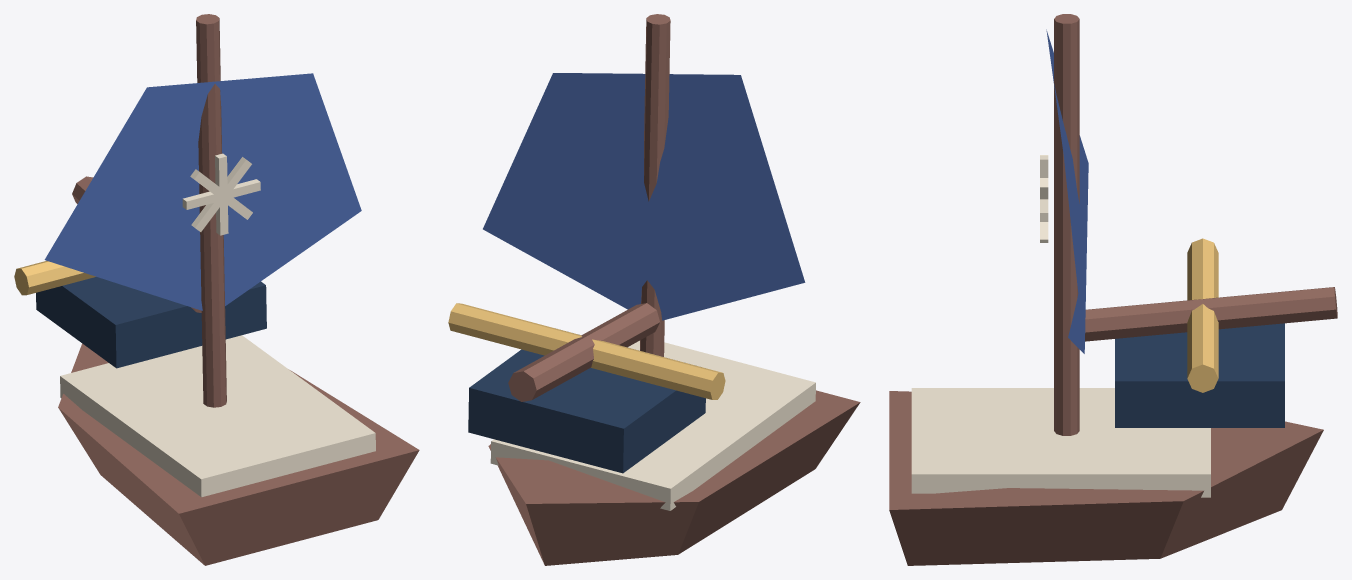
File: bomber-outremer.glb
3 views of the same model, side by side, from view 1: azimuth 30°, elevation 25°; view 2: azimuth 150°, elevation 25°; view 3: azimuth 270°, elevation 25° (orthographic). The views are drawn at different scales.
Parts seen in each view (by area): view 1: Distinctive sail, Pearl deck, Carved hull, Ballista platform, Mast, Ballista arm, Compass emblem.001, Compass emblem, Compass emblem.002, Compass emblem.003; view 2: Distinctive sail, Carved hull, Ballista platform, Pearl deck, Ballista arm, Mast, Ballista rail; view 3: Carved hull, Pearl deck, Ballista platform, Mast, Ballista rail, Ballista arm, Distinctive sail.
Part boxes in pixels (x1=…): Distinctive sail: x1=44, y1=73, x2=361, y2=310; Pearl deck: x1=60, y1=335, x2=375, y2=497; Carved hull: x1=58, y1=343, x2=419, y2=565; Ballista platform: x1=36, y1=277, x2=266, y2=368; Mast: x1=196, y1=14, x2=226, y2=407; Ballista arm: x1=14, y1=260, x2=95, y2=295; Compass emblem.001: x1=191, y1=157, x2=251, y2=231; Compass emblem: x1=215, y1=153, x2=228, y2=235; Compass emblem.002: x1=182, y1=179, x2=260, y2=209; Compass emblem.003: x1=190, y1=169, x2=252, y2=219; Distinctive sail: x1=483, y1=73, x2=805, y2=320; Carved hull: x1=488, y1=390, x2=860, y2=565; Ballista platform: x1=468, y1=349, x2=705, y2=473; Pearl deck: x1=490, y1=340, x2=815, y2=510; Ballista arm: x1=448, y1=303, x2=725, y2=399; Mast: x1=640, y1=14, x2=670, y2=356; Ballista rail: x1=508, y1=303, x2=659, y2=401; Carved hull: x1=889, y1=391, x2=1323, y2=565; Pearl deck: x1=911, y1=388, x2=1210, y2=497; Ballista platform: x1=1115, y1=323, x2=1284, y2=427; Mast: x1=1054, y1=14, x2=1079, y2=435; Ballista rail: x1=1085, y1=287, x2=1337, y2=341; Ballista arm: x1=1187, y1=238, x2=1218, y2=392; Distinctive sail: x1=1046, y1=29, x2=1088, y2=353.
Bounding box in the file's own units: 1.36 × 1.95 × 1.58.
